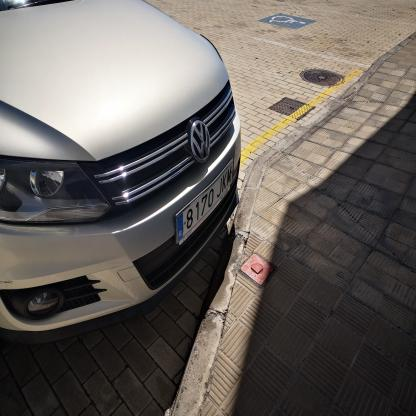patente: (177, 164, 234, 244)
